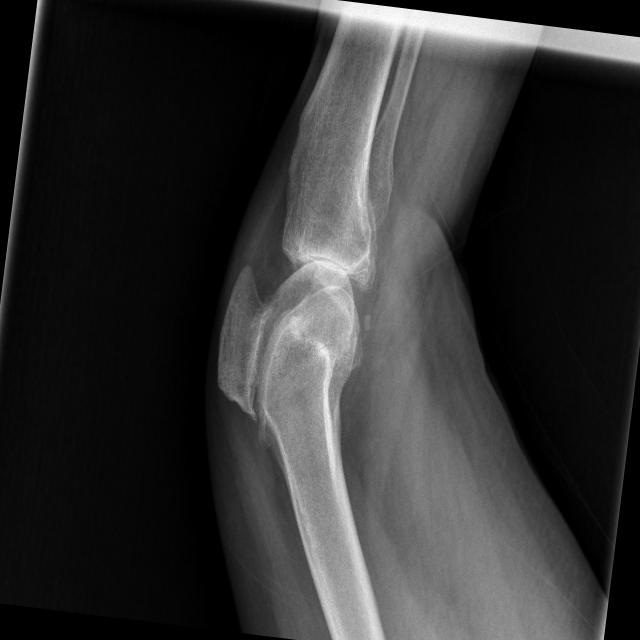Knee: (205, 178, 388, 434)
